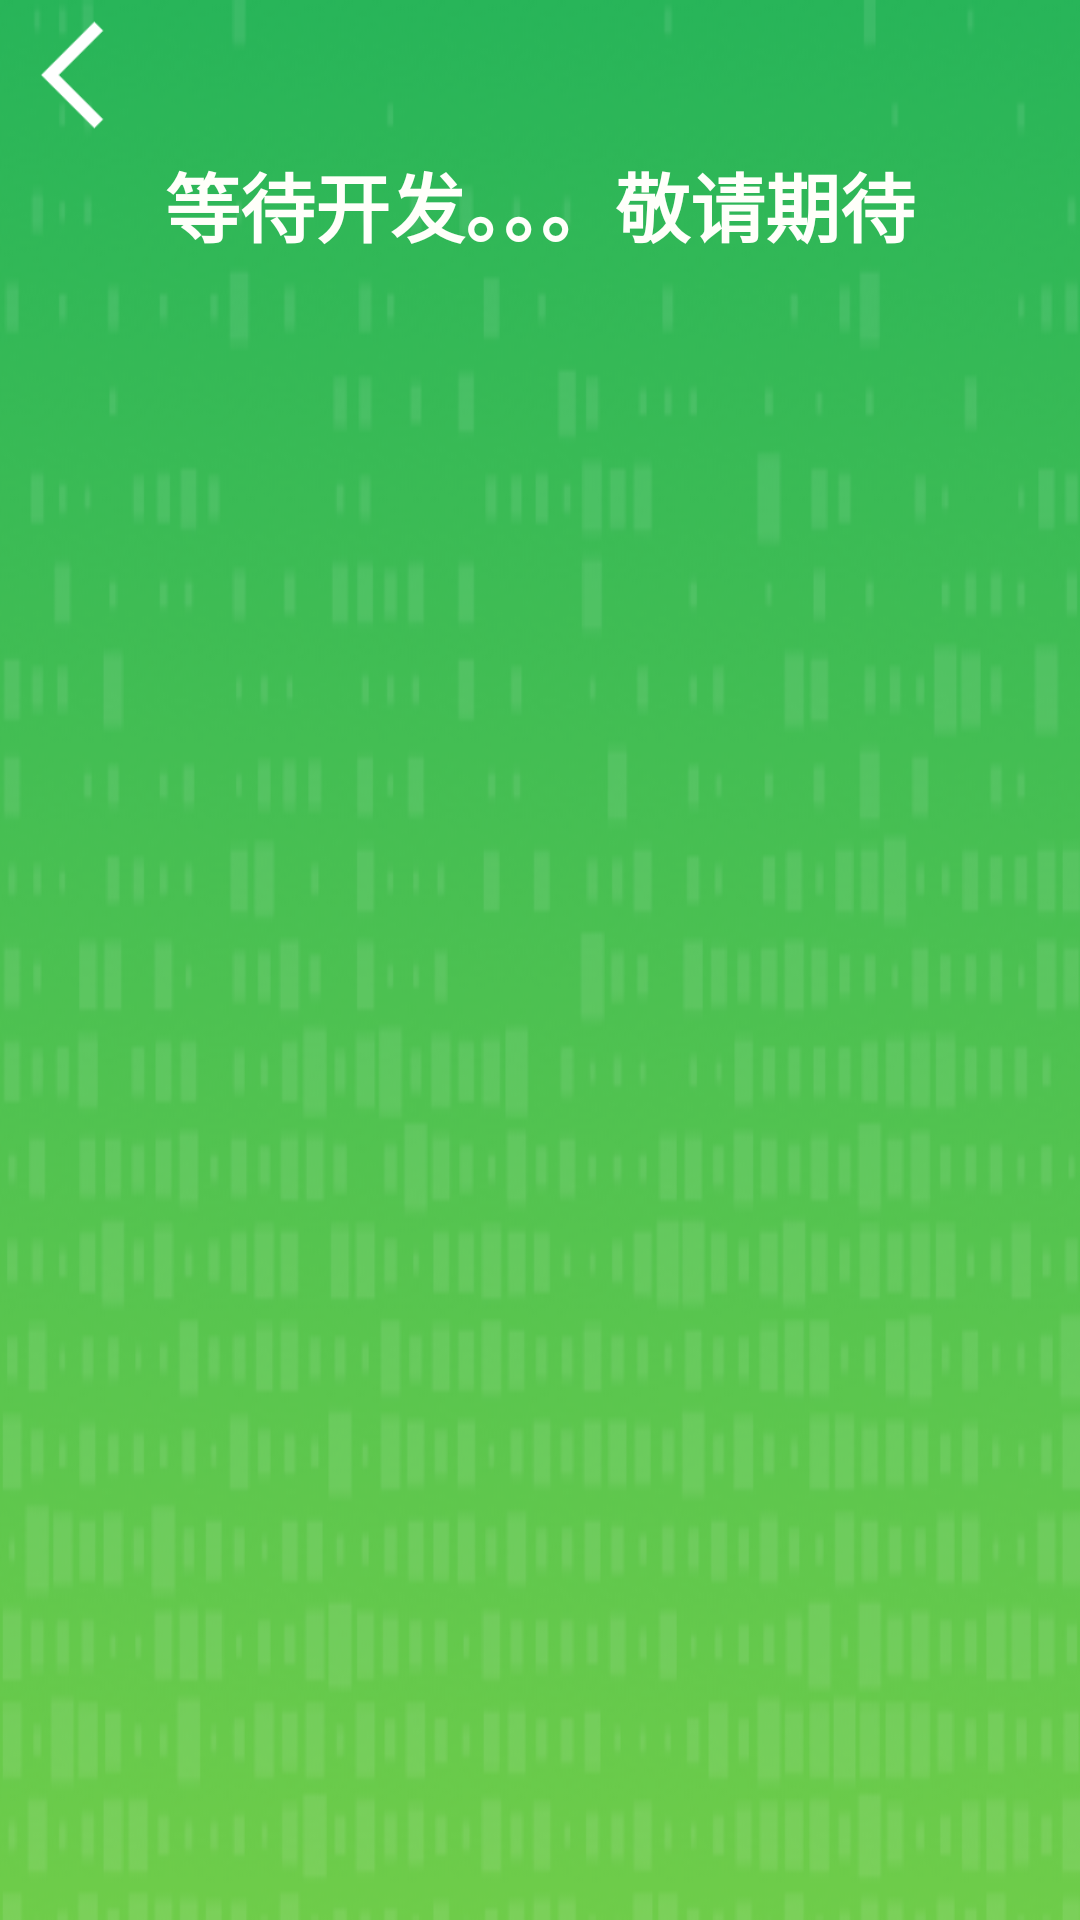

Screen size 1080px x 1920px. Icon name, then its box in pixels as (x1, y1, x2, y2):
left: (41, 21, 103, 129)
